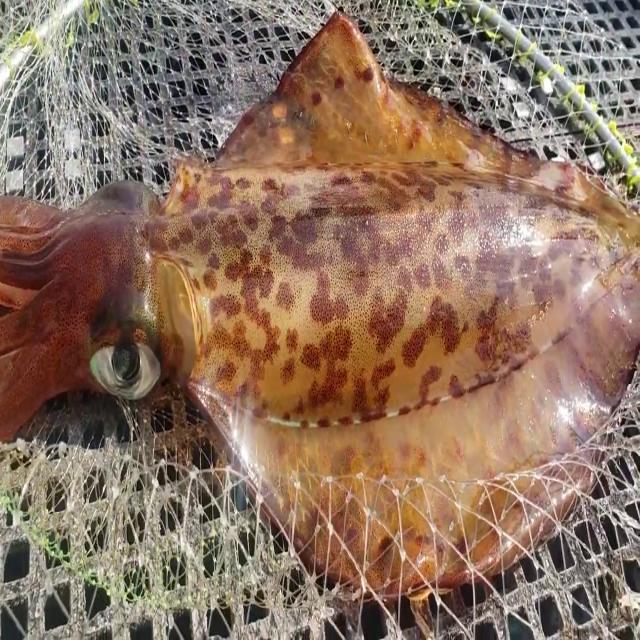SQUID: (3, 6, 640, 619)
